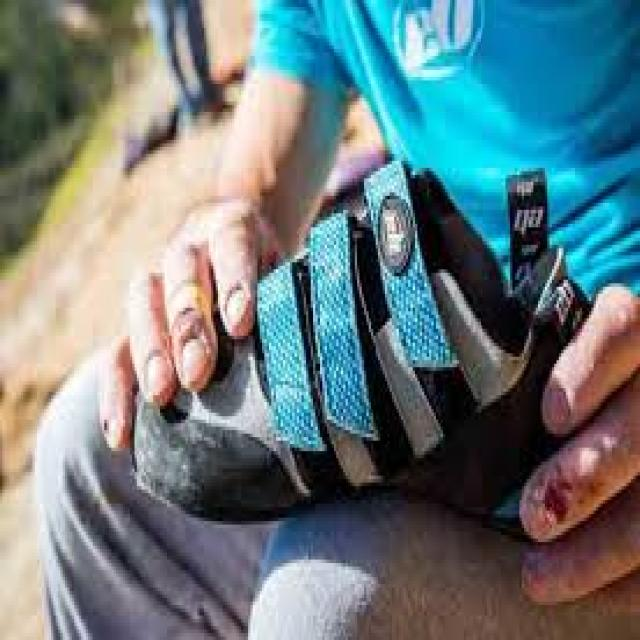climbing-shoes: (136, 178, 604, 524)
